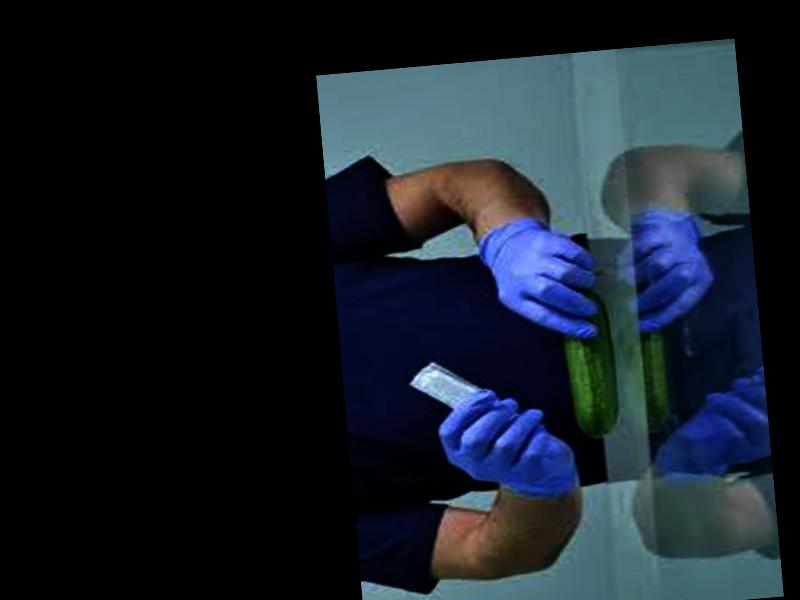Cucumber: (559, 289, 622, 441)
